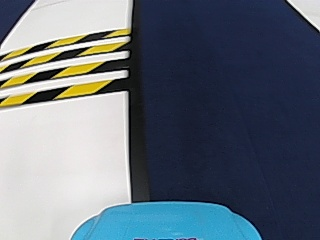bump: (9, 32, 116, 100)
